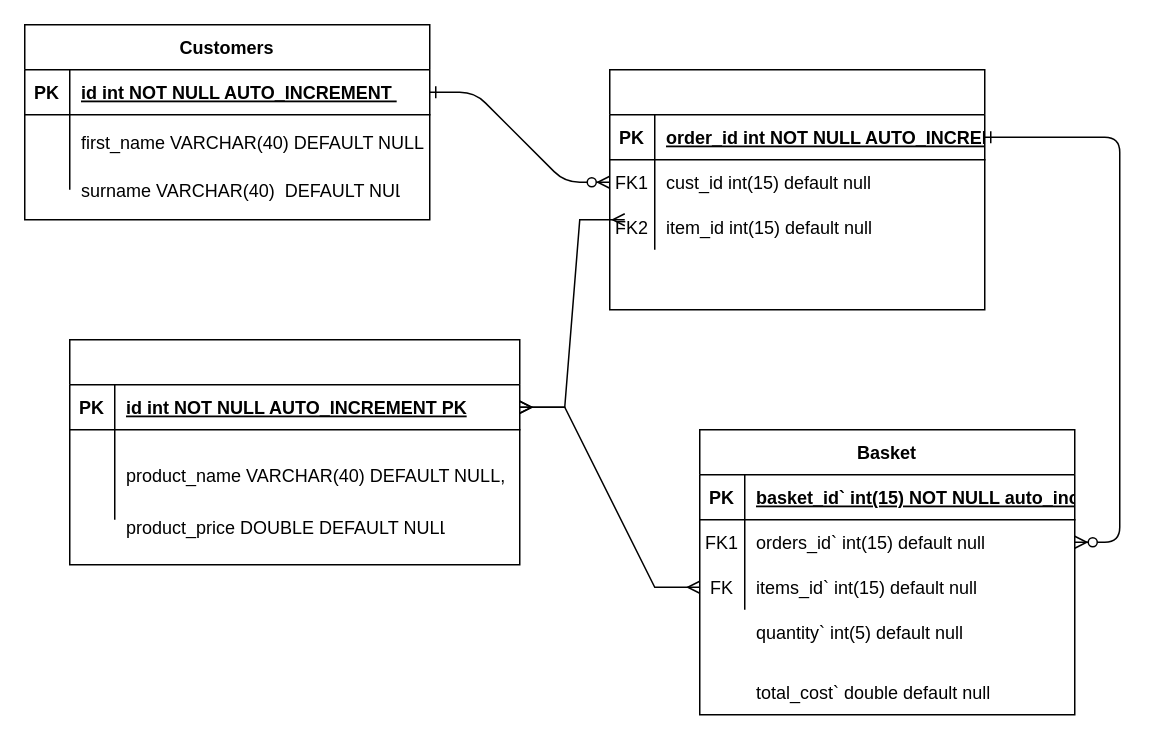
The diagram is 1169 pixels wide and 740 high, and some of its shapes have lost their labels. Each missing label, with the box of its shape:
Items: (68, 338, 520, 565)
Orders: (608, 68, 985, 310)
